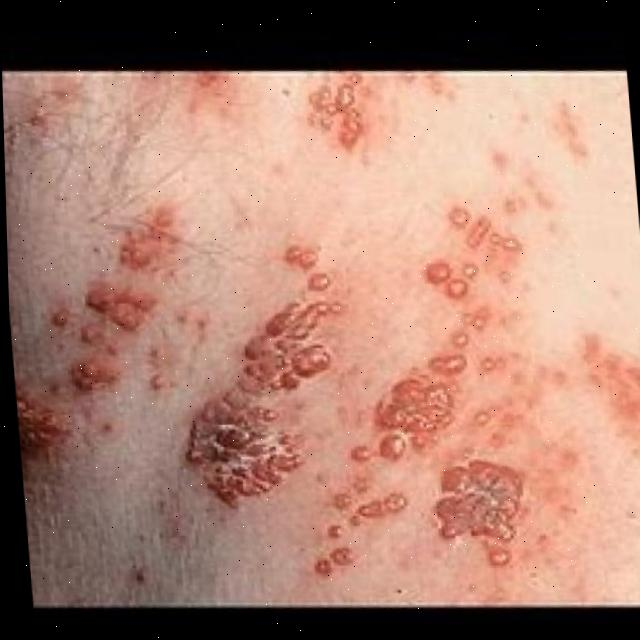Shingles: (1, 40, 640, 630)
